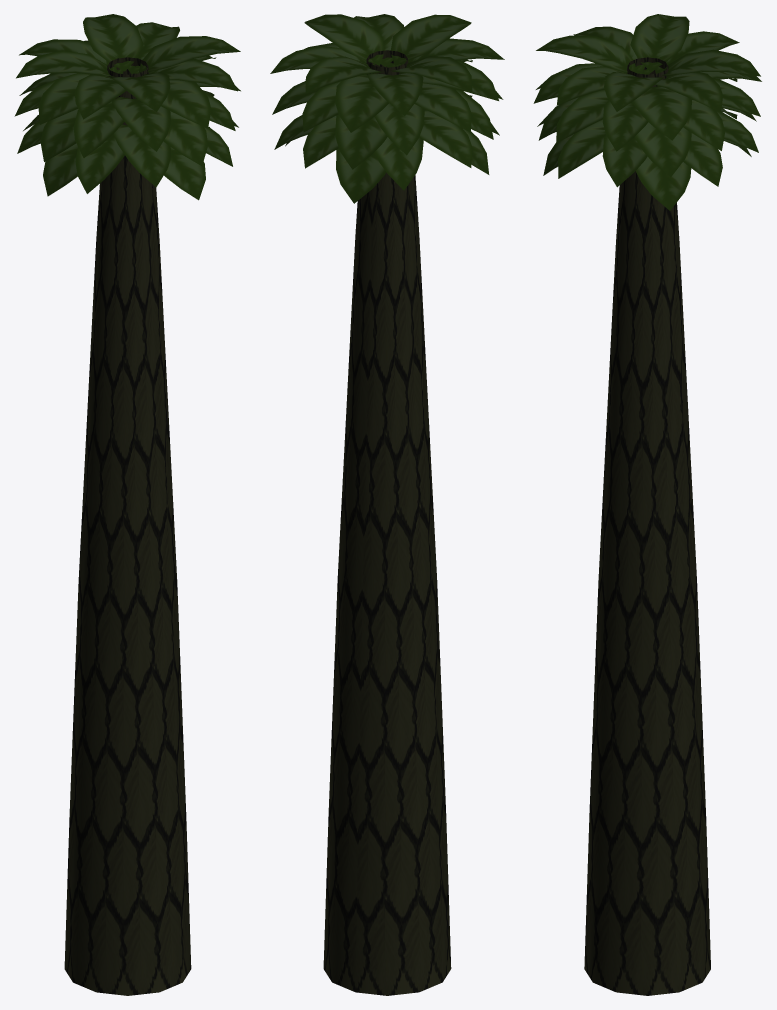
File: tallo_alcachofa.fbx
3 renders of one model, left to right at view 1: azimuth 30°, elevation 25°; view 2: azimuth 150°, elevation 25°; view 3: azimuth 270°, elevation 25°, orthographic.
Parts seen in each view (by area): view 1: pCylinder1, pPlane4, pPlane1, pPlane14, pPlane26, pPlane3, pPlane17, pPlane12, pPlane29, pPlane24, pPlane5, pPlane9 (+9 smaller); view 2: pCylinder1, pPlane1, pPlane2, pPlane10, pPlane27, pPlane22, pPlane15, pPlane18, pPlane6, pPlane34, pPlane3, pPlane4 (+9 smaller); view 3: pCylinder1, pPlane3, pPlane11, pPlane2, pPlane23, pPlane4, pPlane35, pPlane32, pPlane20, pPlane7, pPlane13, pPlane25 (+9 smaller).
Boxes of the visible parts, x1,y1,x2,y2 form: pCylinder1: (64, 57, 191, 995); pPlane4: (83, 14, 143, 71); pPlane1: (138, 36, 240, 72); pPlane14: (111, 97, 170, 151); pPlane26: (113, 124, 170, 187); pPlane3: (16, 50, 114, 78); pPlane17: (73, 101, 124, 157); pPlane12: (161, 80, 211, 128); pPlane29: (75, 134, 124, 193); pPlane24: (163, 111, 207, 165); pPlane5: (74, 74, 126, 119); pPlane9: (38, 73, 90, 124); pCylinder1: (323, 50, 451, 995); pPlane1: (304, 14, 384, 65); pPlane2: (390, 14, 471, 65); pPlane10: (335, 74, 388, 132); pPlane27: (419, 109, 472, 167); pPlane22: (335, 114, 387, 169); pPlane15: (414, 83, 471, 132); pPlane18: (374, 103, 424, 155); pPlane6: (367, 72, 423, 115); pPlane34: (336, 148, 386, 203); pPlane3: (391, 56, 472, 91); pPlane4: (305, 56, 384, 93); pCylinder1: (584, 57, 710, 995); pPlane3: (630, 14, 689, 71); pPlane11: (632, 86, 691, 140); pPlane2: (536, 35, 636, 72); pPlane23: (634, 122, 691, 176); pPlane4: (662, 49, 760, 76); pPlane35: (635, 156, 691, 210); pPlane32: (558, 119, 605, 178); pPlane20: (556, 89, 608, 143); pPlane7: (655, 72, 722, 112); pPlane13: (602, 100, 648, 151); pPlane25: (602, 135, 647, 187).
Size of the model in its own units: 3.63 by 15.93 by 3.62.
Materials: 1 (1 with a texture image).
